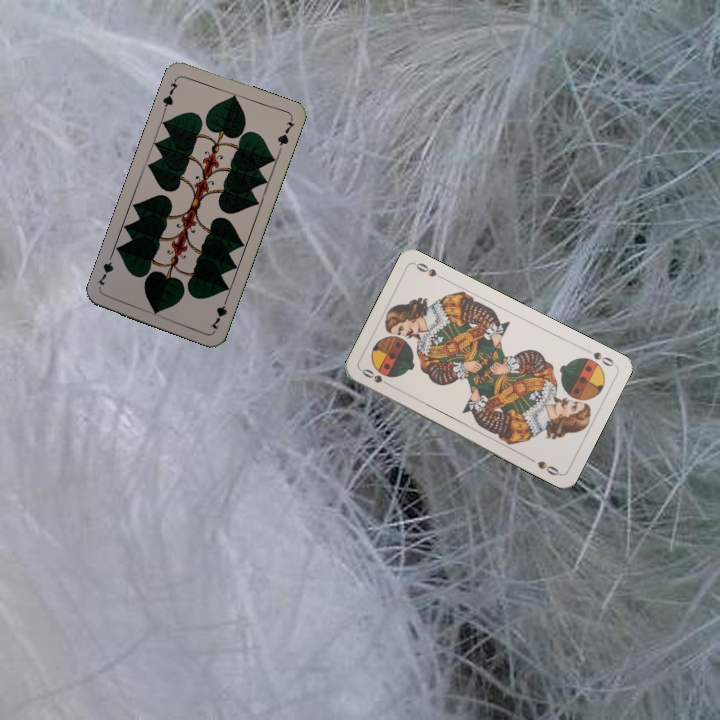G7: (206, 293, 231, 332), (159, 74, 181, 113)
SO: (357, 364, 395, 390), (580, 344, 617, 369)
